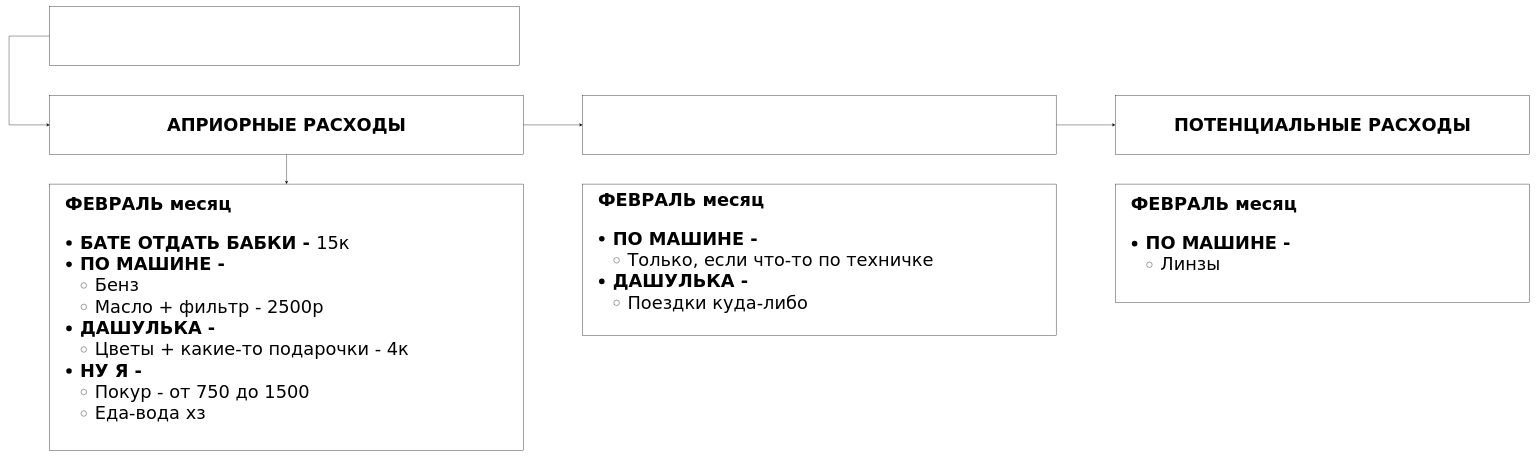
The diagram is 1536 pixels wide and 457 high, and some of its shapes have lost their labels. Each missing label, with the box of its shape:
НЕПРЕДВИДЕННЫЕ РАСХОДЫ: (582, 95, 1056, 154)
ТУТ О РАСХОДАХ (всё остальное откладывается): (49, 6, 520, 66)
